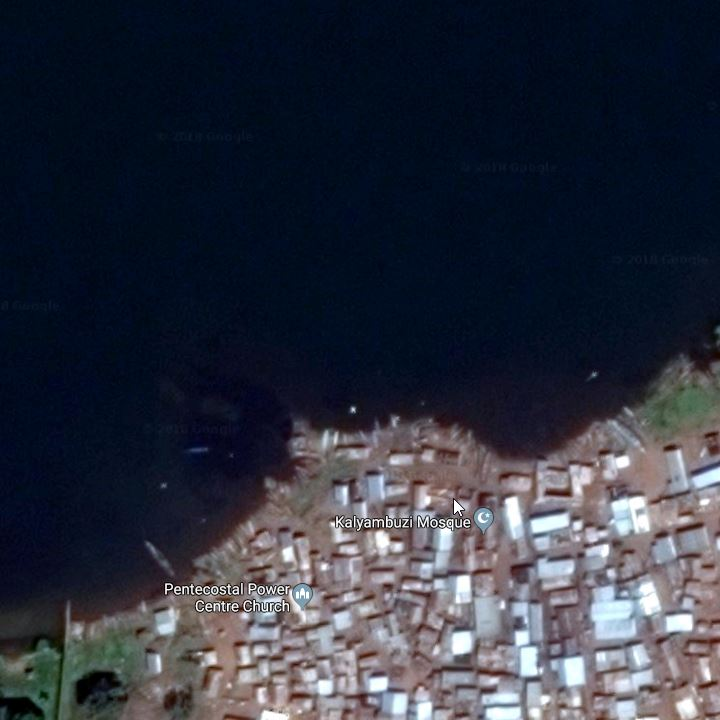boat: (138, 532, 175, 582), (607, 415, 649, 454), (315, 422, 335, 456), (479, 447, 495, 483), (367, 422, 384, 455), (370, 413, 388, 439), (219, 536, 238, 558), (179, 445, 215, 456), (619, 404, 639, 422), (582, 368, 600, 387), (329, 425, 340, 455), (213, 544, 230, 562), (446, 421, 459, 441), (232, 525, 247, 541), (237, 521, 250, 538), (450, 435, 467, 448), (451, 425, 463, 443), (208, 550, 222, 565), (225, 536, 239, 551), (247, 518, 256, 538), (466, 426, 472, 454)
